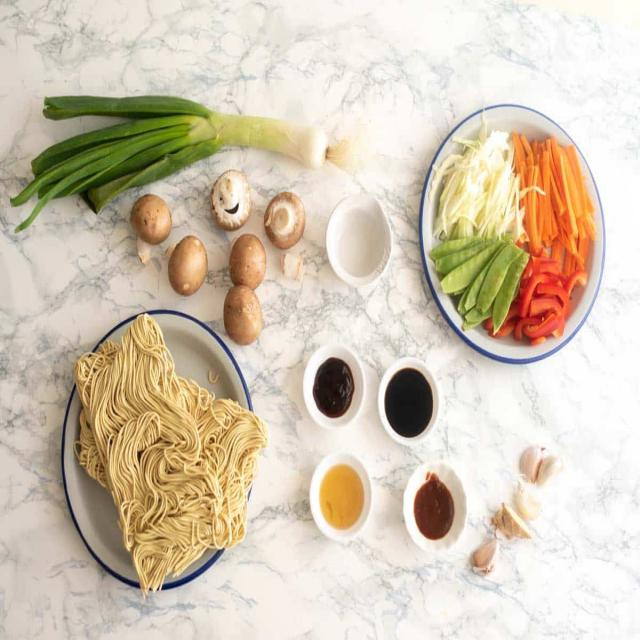Garlic bulb: (521, 440, 563, 491), (512, 480, 547, 524), (474, 533, 501, 581)
Mushroom: (130, 188, 173, 269), (164, 233, 212, 300), (221, 284, 268, 350), (264, 188, 312, 252), (208, 167, 256, 230), (227, 233, 273, 294)
